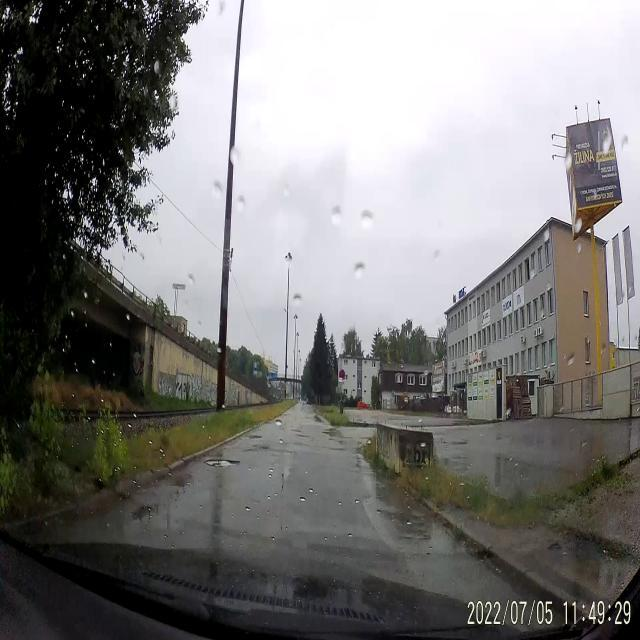Pothole: (130, 498, 157, 525), (205, 454, 241, 472), (164, 470, 194, 490), (246, 443, 268, 458), (247, 430, 266, 440), (294, 432, 312, 439), (290, 426, 304, 432)
